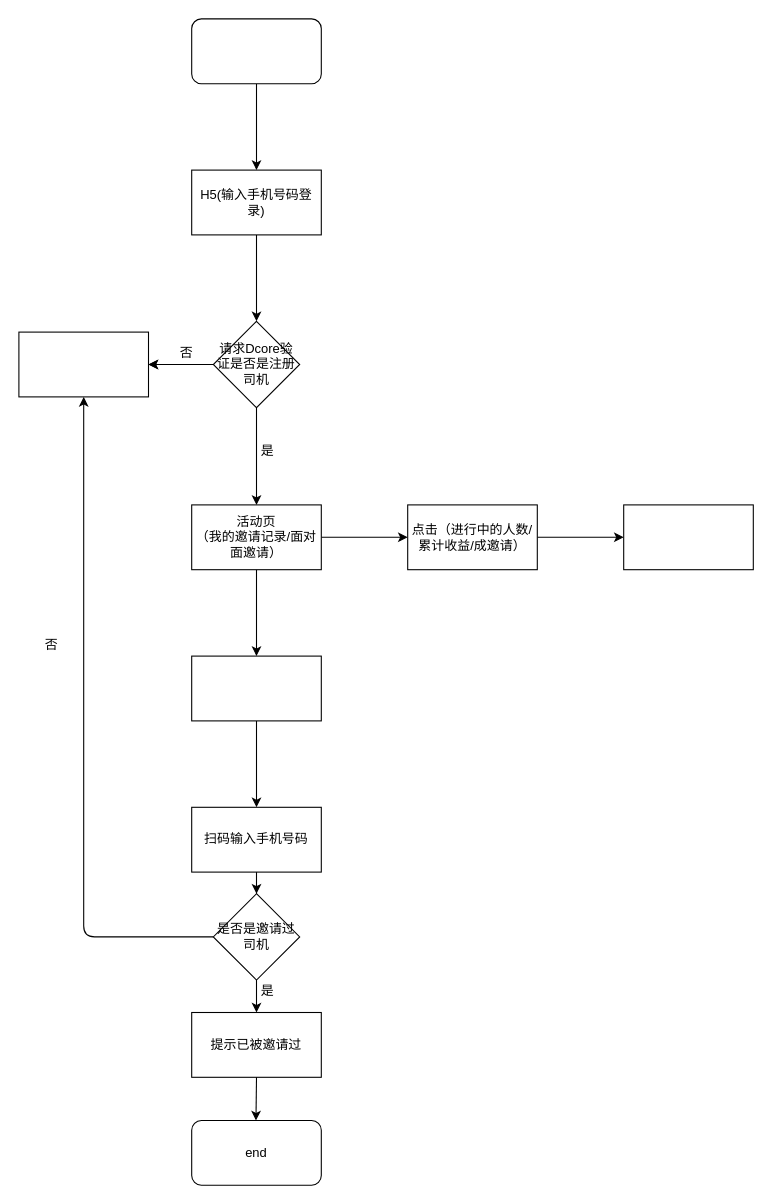
This 772x1204 diagram has some shape labels left out. Each missing label, with the box of its shape:
点击面对面扫码: (191, 655, 321, 721)
起始: (191, 18, 321, 84)
跳转到司机加盟页: (18, 331, 148, 397)
进行中的人数/累计收益/成邀请(详情): (623, 504, 753, 570)
